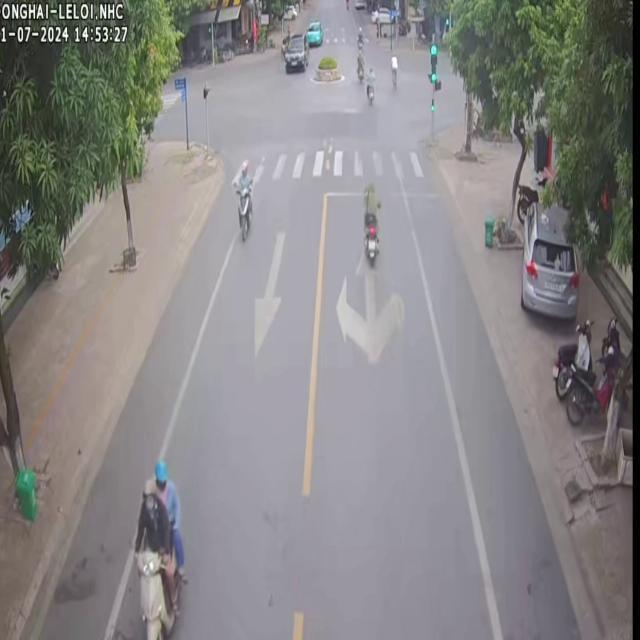car: (519, 200, 578, 318), (283, 31, 307, 70), (304, 18, 322, 44)
green_light: (428, 43, 438, 92)
motobike: (133, 476, 178, 637), (564, 345, 618, 422), (550, 318, 590, 398), (232, 158, 253, 238), (363, 211, 377, 265), (364, 69, 374, 102)
stop_line: (322, 186, 443, 198)
